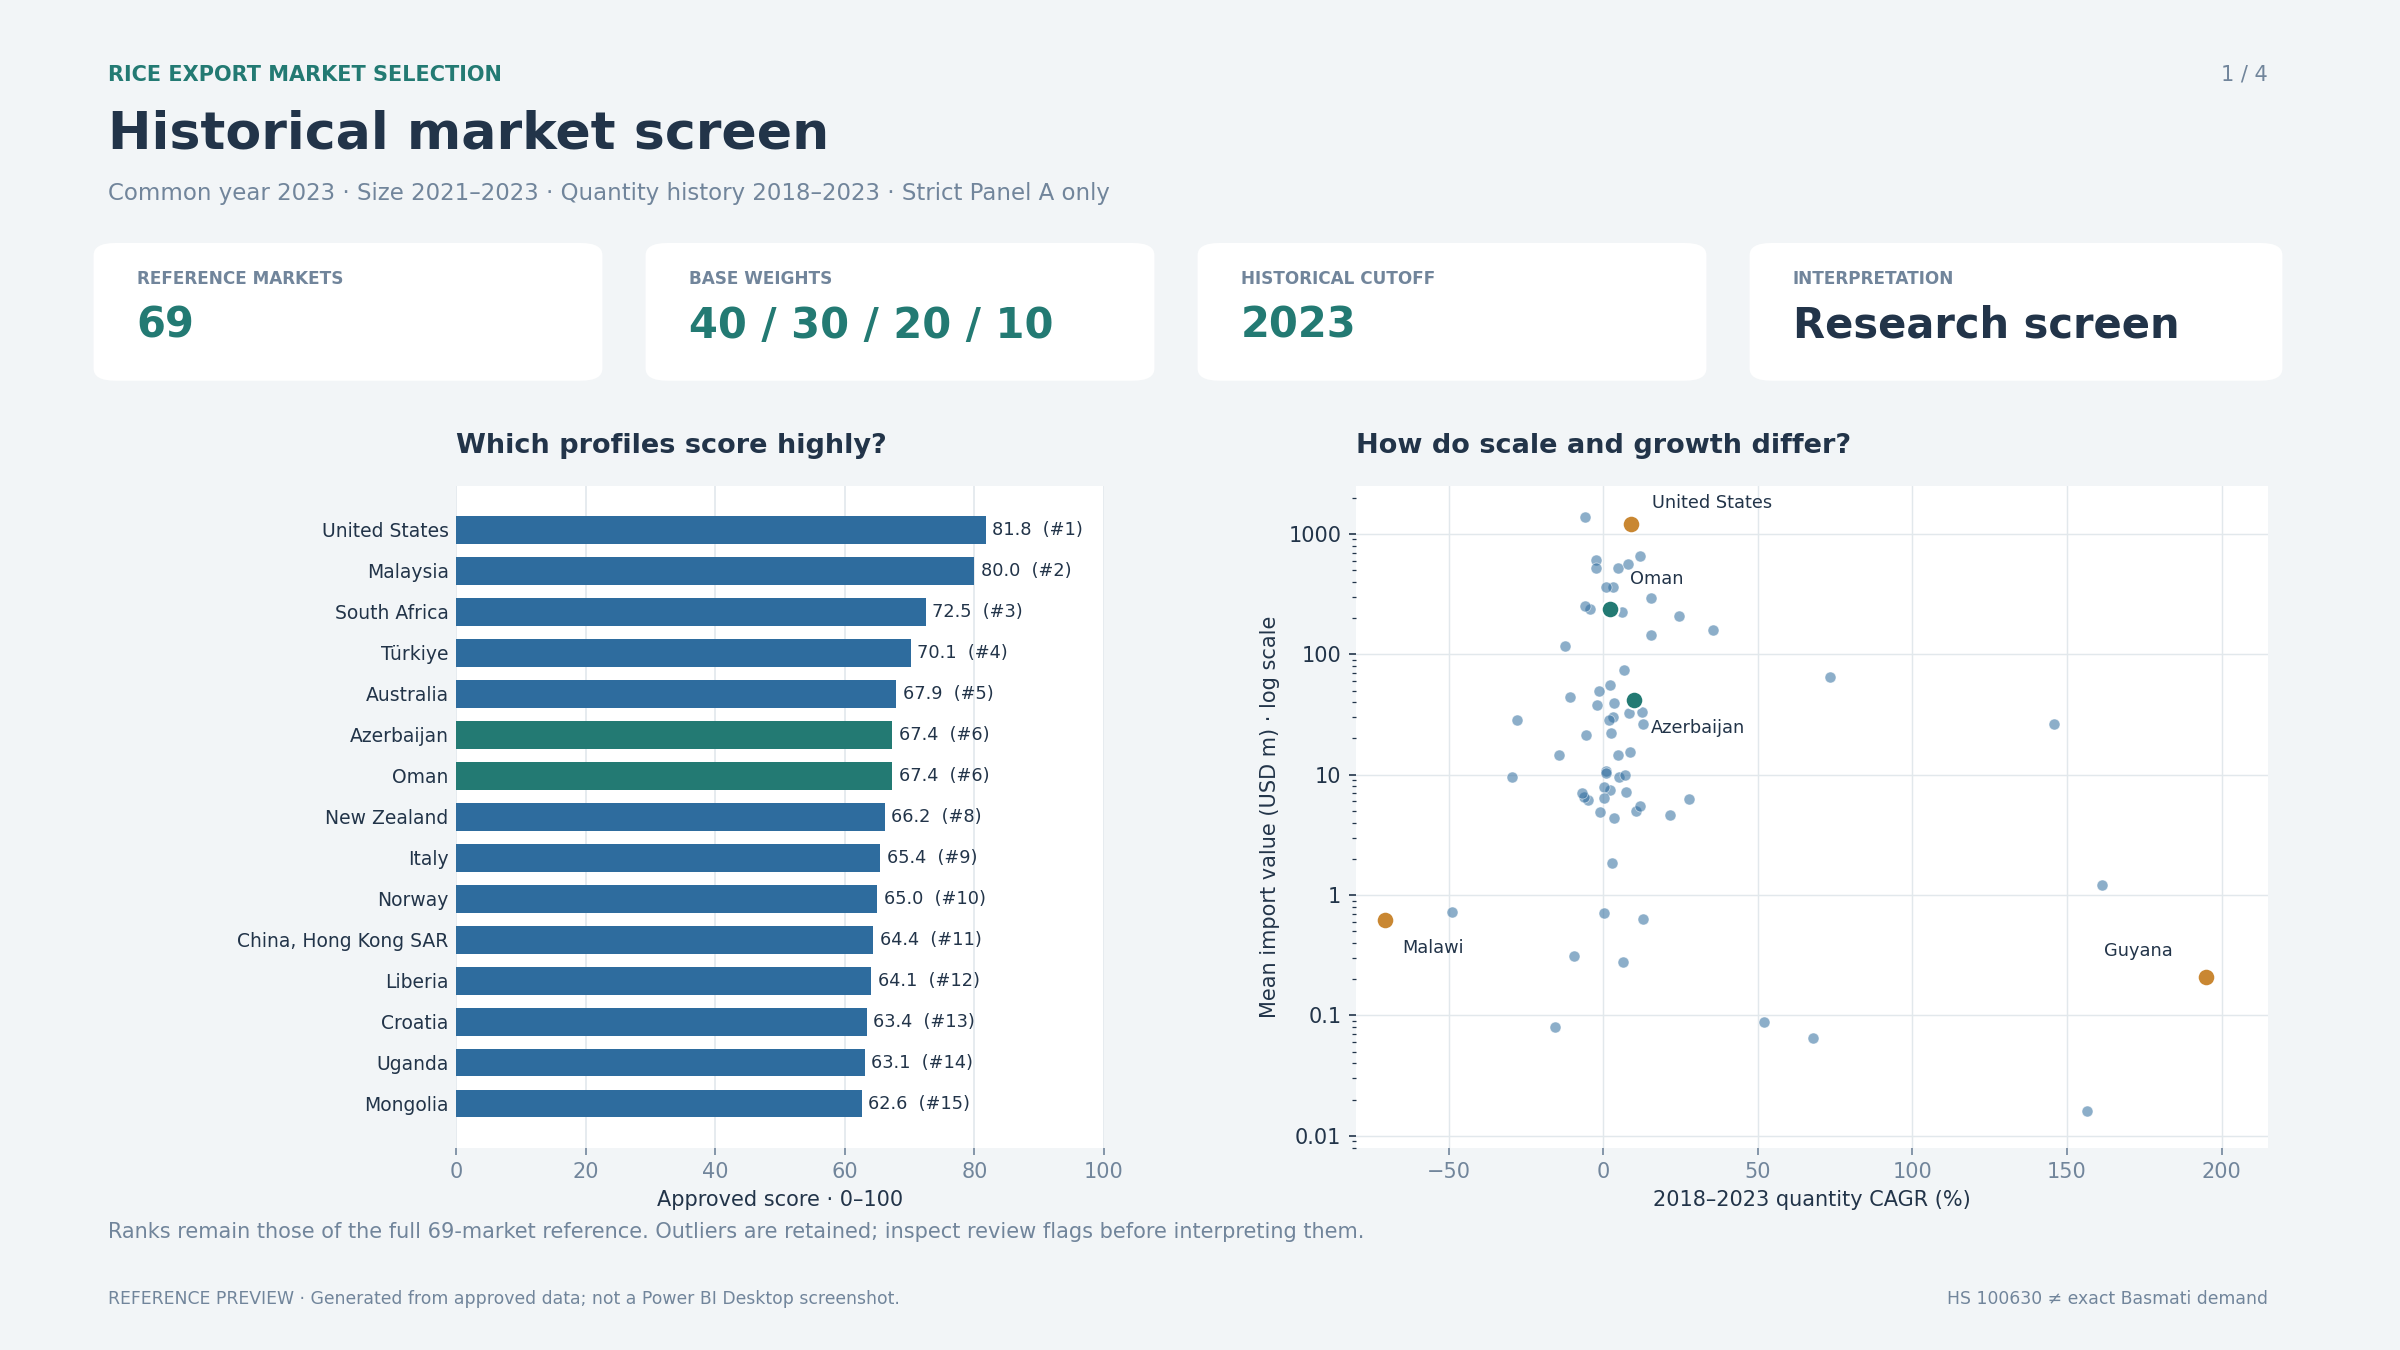

The page's visual inventory and layout, read from the dashboard file:
{"tool":"powerbi","page":{"name":"Global market screen","canvas":[1920,1080],"ordinal":0},"visuals":[{"type":"shape","box":[0,0,1919.3,151.8],"z":0},{"type":"clusteredBarChart","title":"Top markets under the base screen","fields":{"Category":["Markets.Market"],"Y":["Markets.Selected score"]},"box":[13,334,939,668],"z":1000},{"type":"scatterChart","title":"Size vs. growth","fields":{"Category":["Markets.Market"],"X":["Markets.Quantity CAGR"],"Y":["Markets.Market size USD m"]},"box":[960.7,334,941.2,668],"z":2000},{"type":"textbox","title":"Global rice market screen","box":[21.7,21.7,787.2,91.1],"z":3000},{"type":"textbox","box":[19.5,1030.1,1880,50],"z":4000},{"type":"textbox","box":[21.7,900,583.4,26],"z":5000},{"type":"shape","box":[0,112.8,1919.3,75.9],"z":6000},{"type":"shape","box":[0,954.2,1901.9,93.3],"z":7000},{"type":"shape","box":[99.8,173.5,505.3,143.1],"z":8000},{"type":"shape","box":[702.7,173.5,631.1,143.1],"z":9000},{"type":"shape","box":[1403.1,173.5,496.6,143.1],"z":10000},{"type":"textbox","title":"69","box":[249.4,182.2,284.1,125.8],"z":11000},{"type":"textbox","title":"40 / 30 / 20 / 10","box":[876.1,184.3,414.2,149.6],"z":12000},{"type":"textbox","title":"2023","box":[1576.6,180,299.3,130.1],"z":13000},{"type":"image","box":[119.3,195.2,95.4,73.7],"z":13001},{"type":"image","box":[737.3,195.2,106.3,99.8],"z":13002},{"type":"image","box":[1431.3,188.7,143.1,101.9],"z":13003}]}

Visuals, with their boxes in screenshot pixels (x1, y1, x2, y2), scaled from the page's 1920x1080 canvas onto the 2400x1350 screenshot:
shape: l=0, t=0, r=2399, b=190
"Top markets under the base screen" clusteredBarChart: l=16, t=418, r=1190, b=1252
"Size vs. growth" scatterChart: l=1201, t=418, r=2377, b=1252
"Global rice market screen" textbox: l=27, t=27, r=1011, b=141
textbox: l=24, t=1288, r=2374, b=1349
textbox: l=27, t=1125, r=756, b=1158
shape: l=0, t=141, r=2399, b=236
shape: l=0, t=1193, r=2377, b=1309
shape: l=125, t=217, r=756, b=396
shape: l=878, t=217, r=1667, b=396
shape: l=1754, t=217, r=2375, b=396
"69" textbox: l=312, t=228, r=667, b=385
"40 / 30 / 20 / 10" textbox: l=1095, t=230, r=1613, b=417
"2023" textbox: l=1971, t=225, r=2345, b=388
image: l=149, t=244, r=268, b=336
image: l=922, t=244, r=1054, b=369
image: l=1789, t=236, r=1968, b=363
